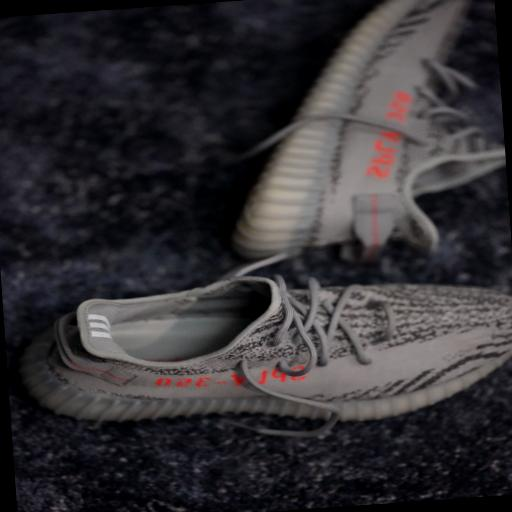shoe: (20, 276, 511, 436), (234, 0, 505, 260)
